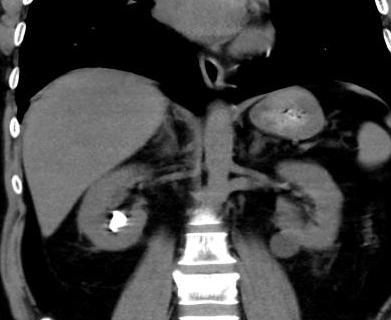Tas_Var: (105, 208, 130, 236)
